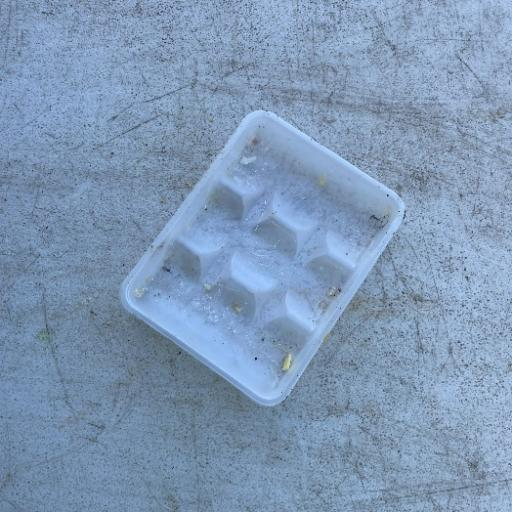Plastic: (118, 108, 408, 408)
